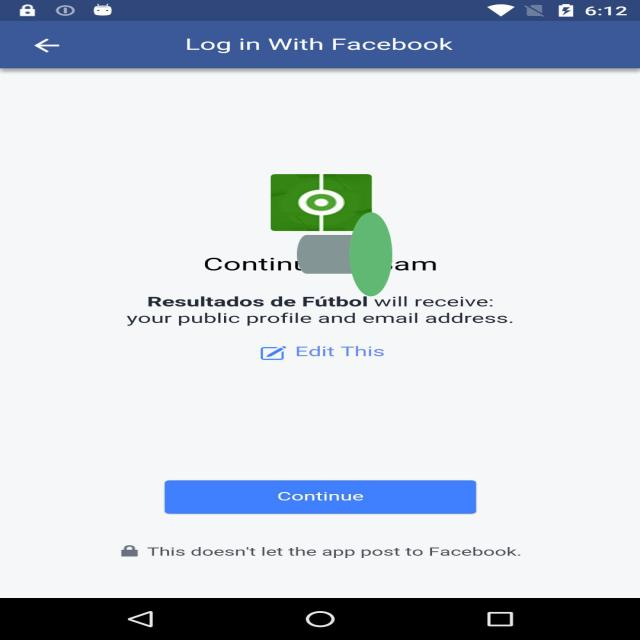social proof: (297, 161, 392, 348)
